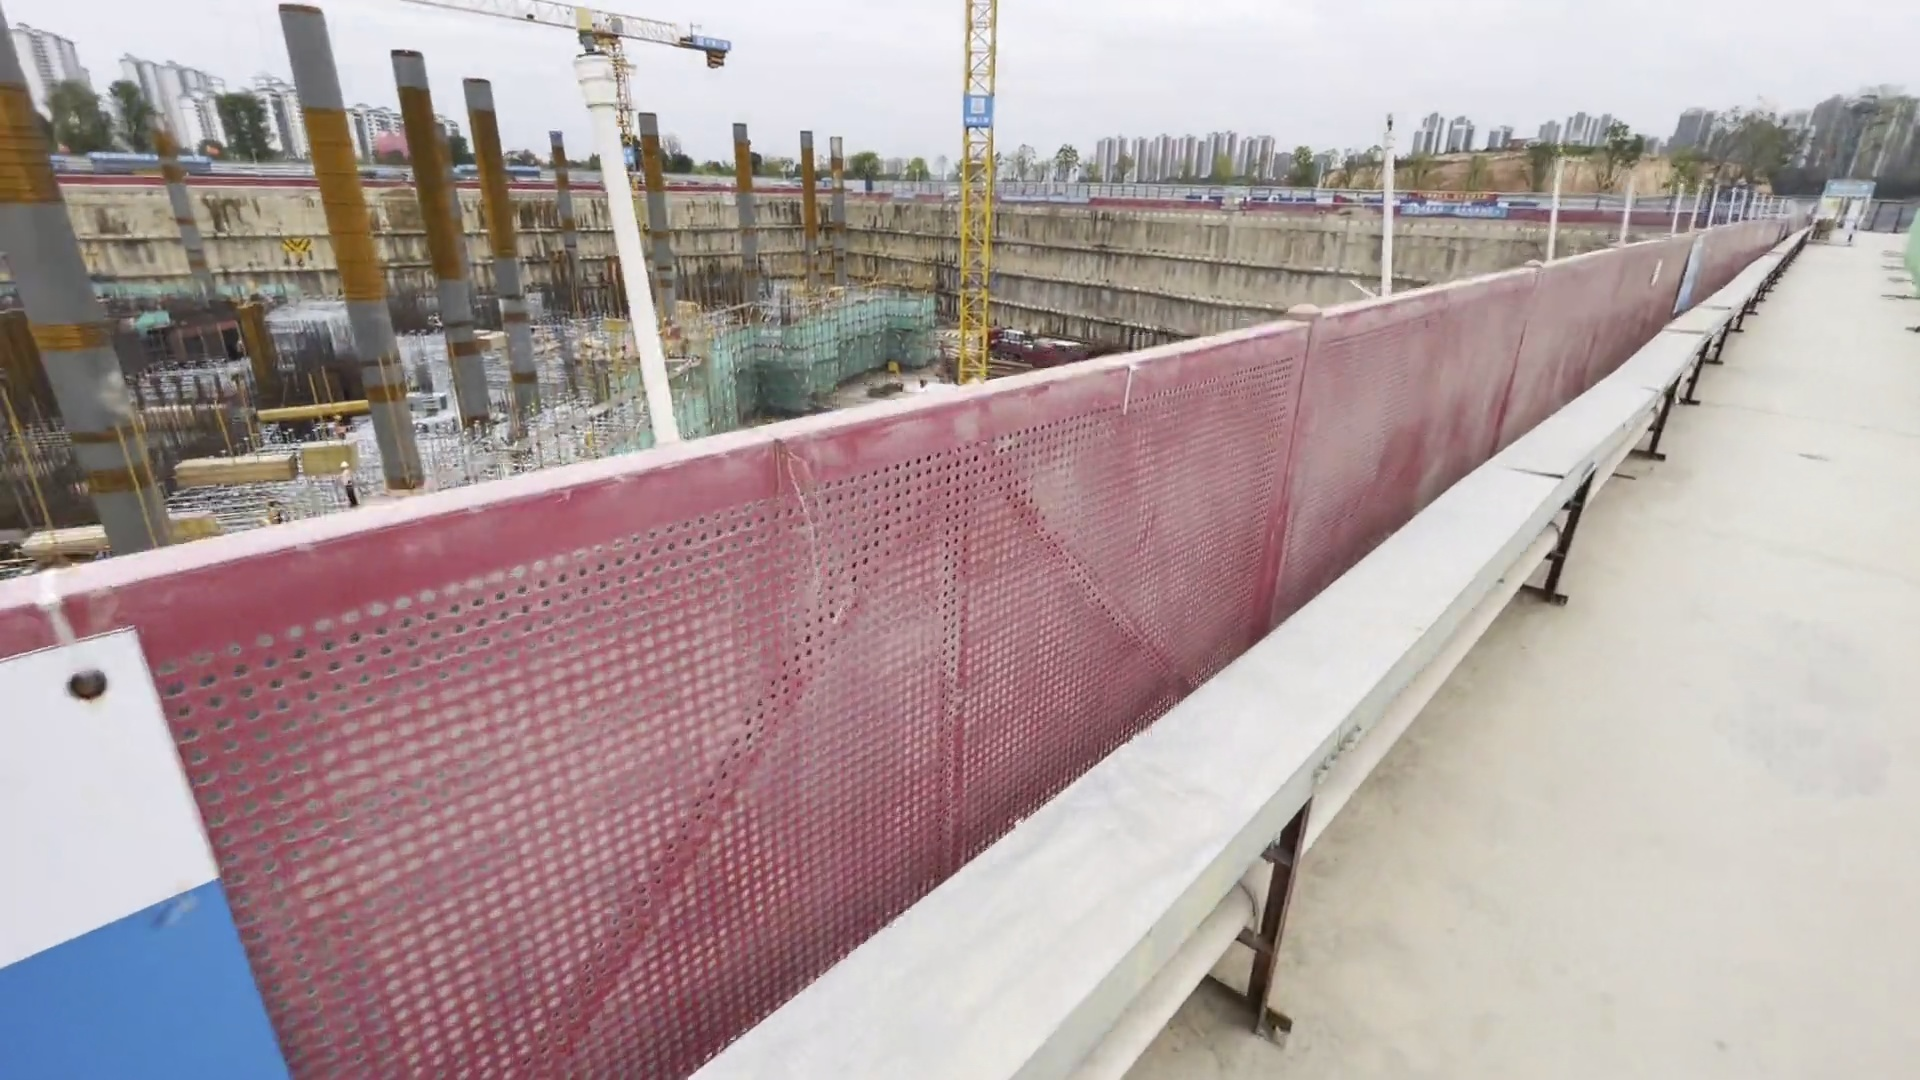fence: (275, 232, 1820, 831)
helmet: (332, 456, 356, 469)
hook: (263, 204, 328, 284)
person: (334, 456, 380, 510), (331, 410, 351, 446)
slogan: (1391, 185, 1517, 230)
